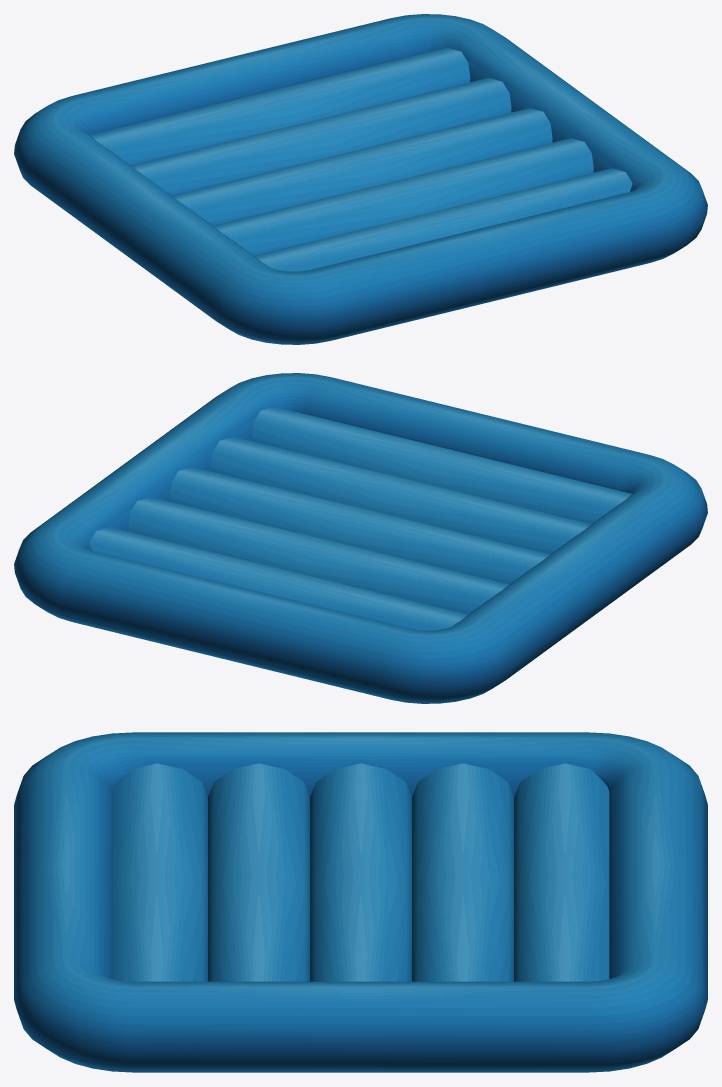
File: tube_cube_sky.fbx
3 renders of one model, top to bottom at view 1: azimuth 30°, elevation 25°; view 2: azimuth 150°, elevation 25°; view 3: azimuth 270°, elevation 25°, orthographic. The views are drawn at different scales.
Visible parts, largest first — view 1: tube_cube_sky; view 2: tube_cube_sky; view 3: tube_cube_sky.
Part boxes in pixels (x1,y1,x2,y2): tube_cube_sky: (14,14,707,344); tube_cube_sky: (14,373,707,703); tube_cube_sky: (14,732,707,1072).
Bounding box in the file's own units: 80 × 10.09 × 80.
